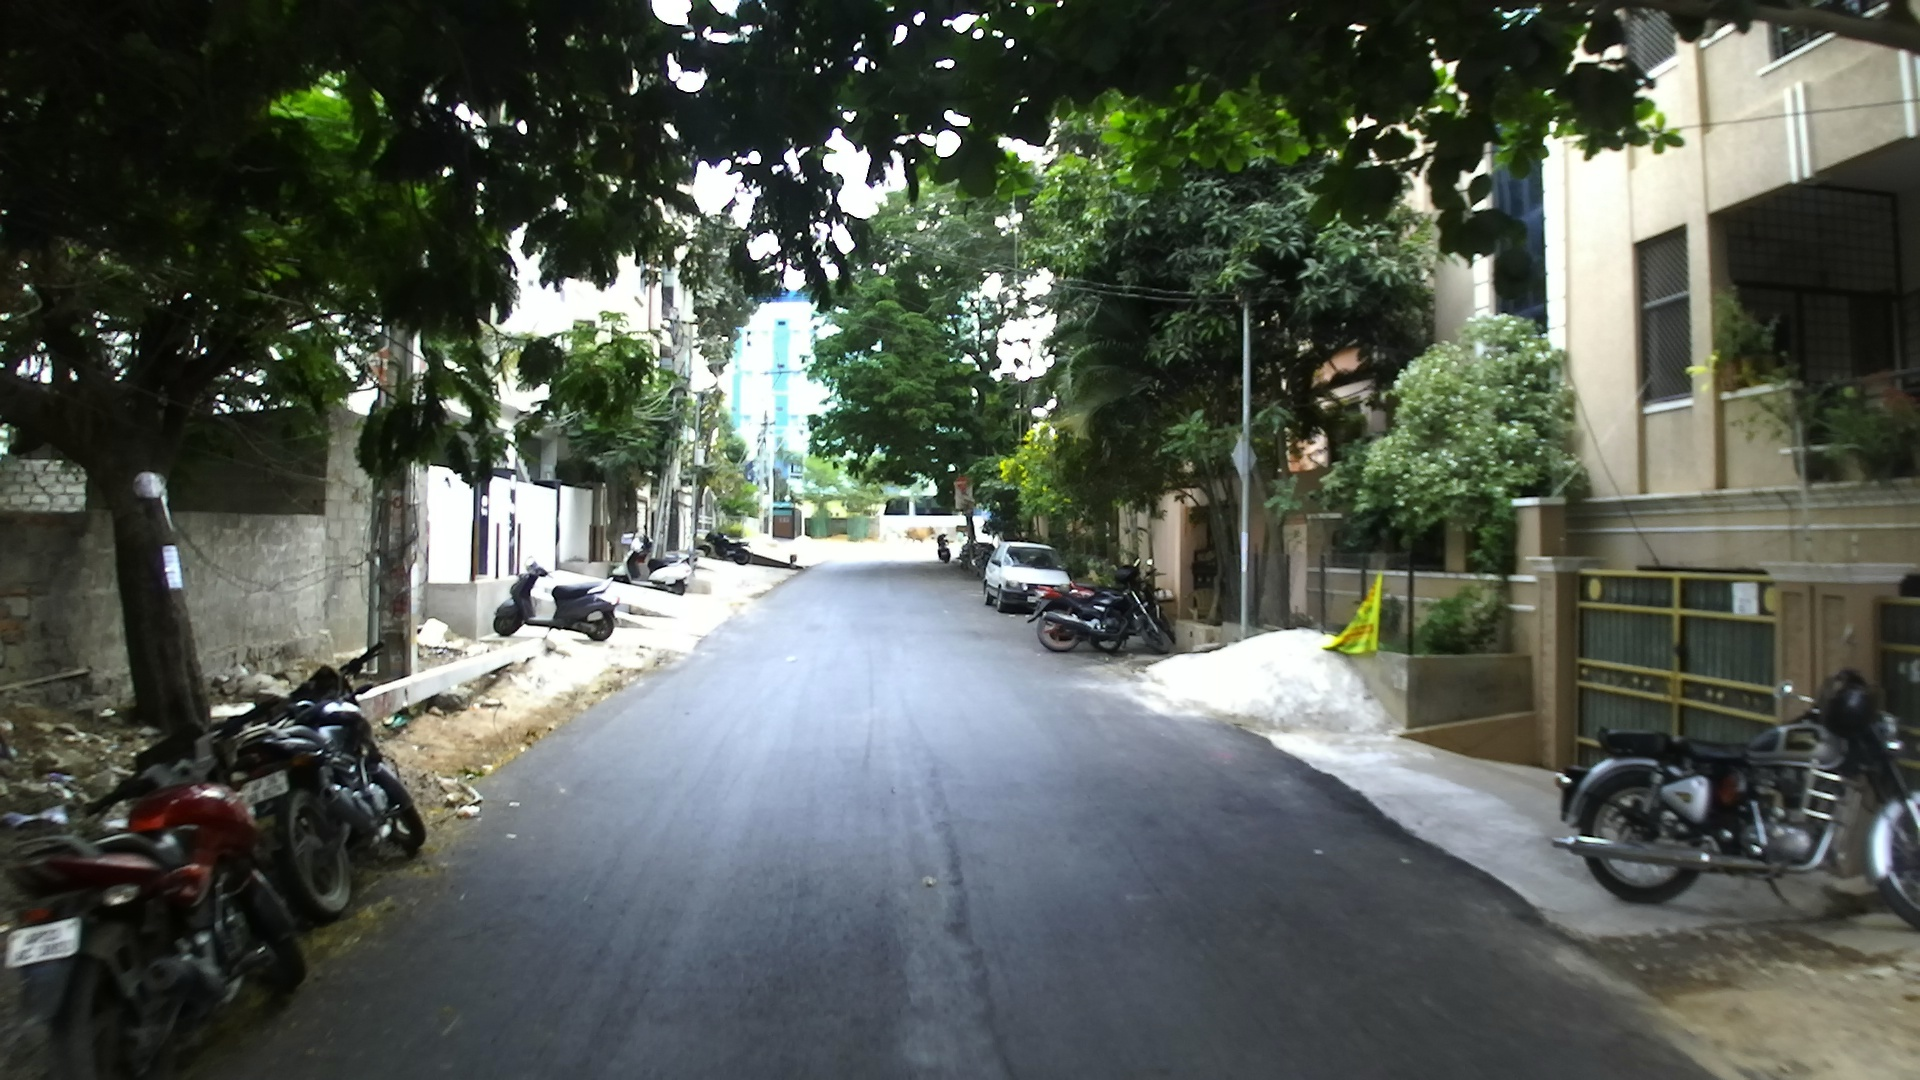vehicle: (1557, 662, 1917, 928), (3, 777, 309, 1076), (266, 651, 430, 878), (1035, 585, 1174, 659), (1036, 585, 1171, 657), (518, 566, 620, 642), (980, 545, 1072, 612)
